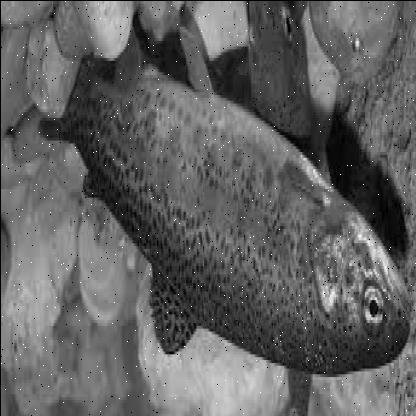fish: (37, 22, 414, 371)
